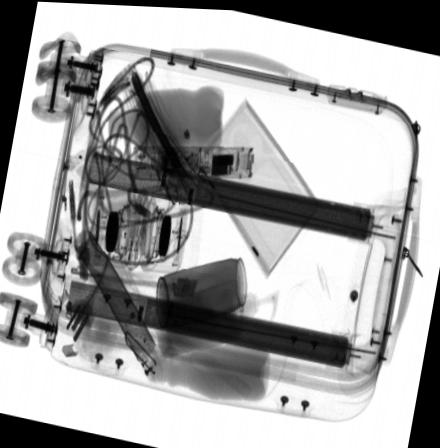Baton: (133, 143, 253, 178)
